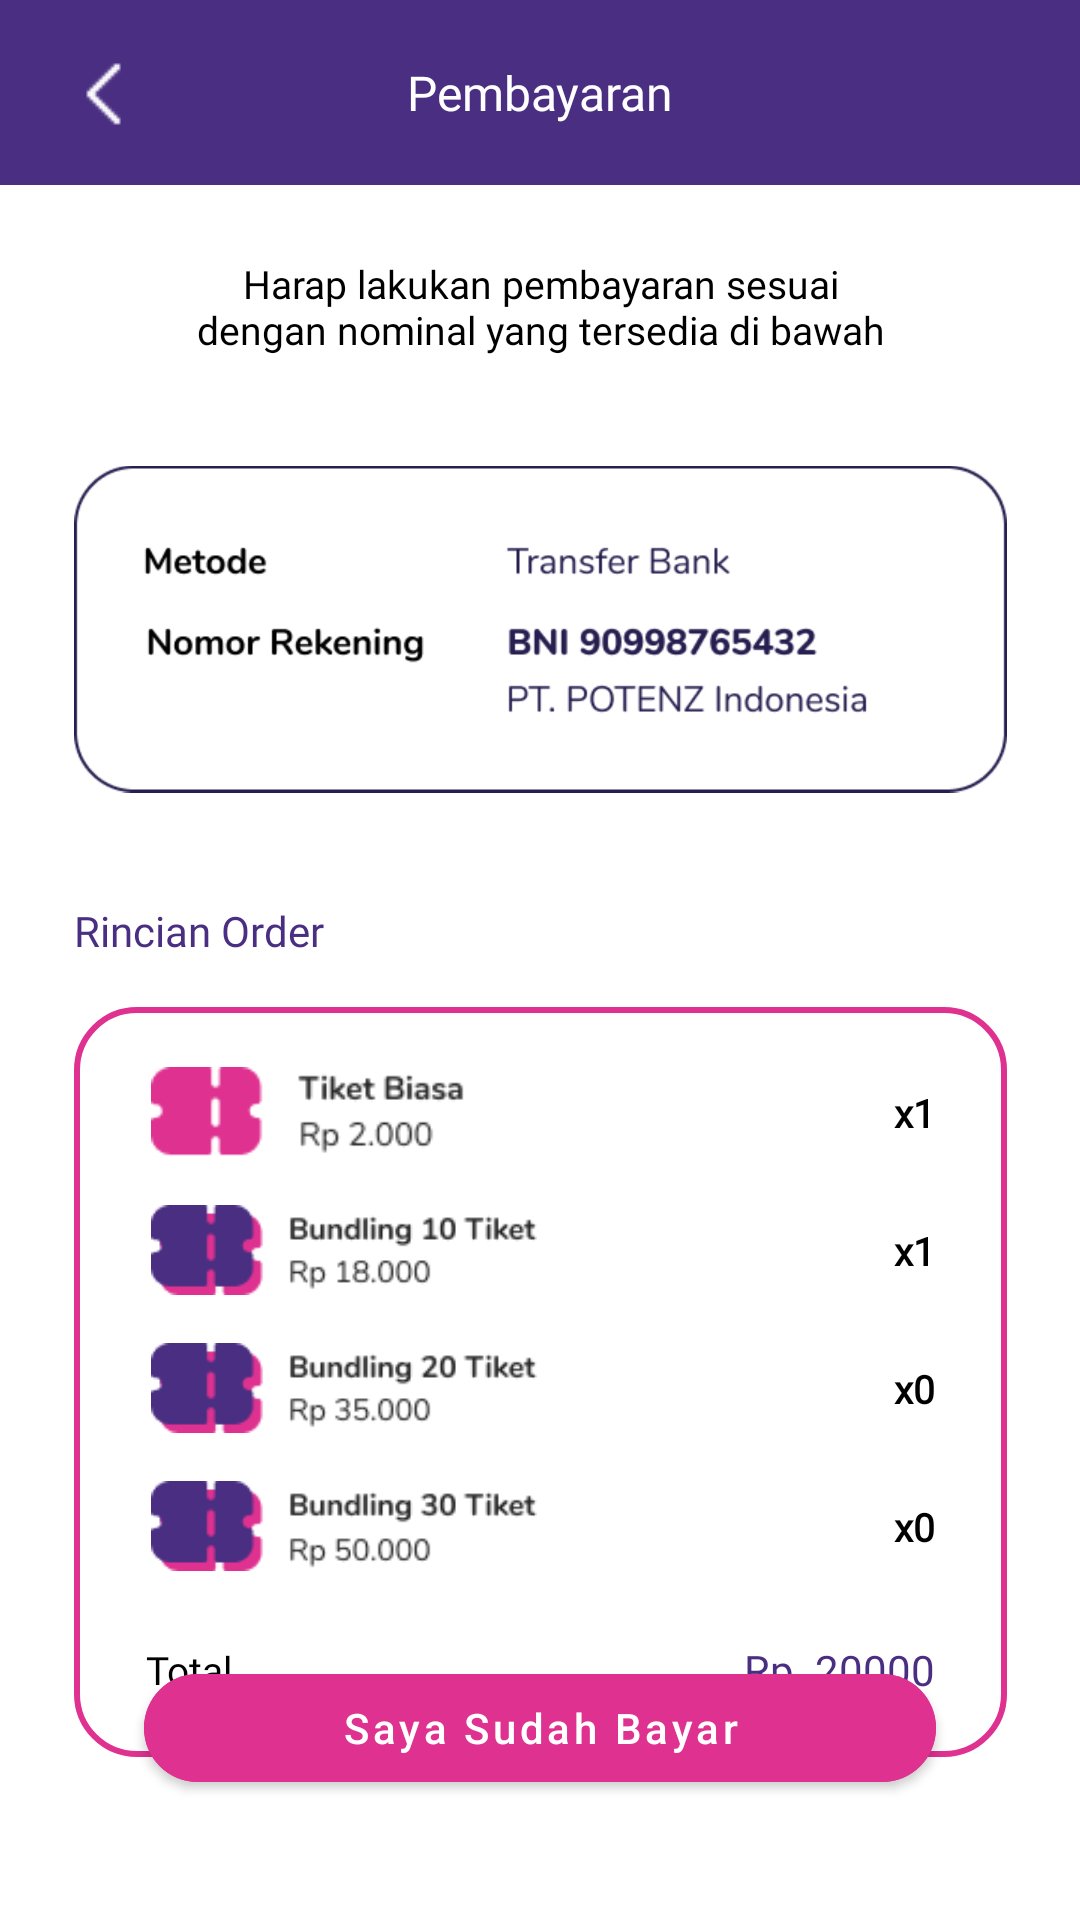

Named icons in this screenshot (1080 x 1920) and their centers, (x=x, y=y):
back: (x=103, y=94)
